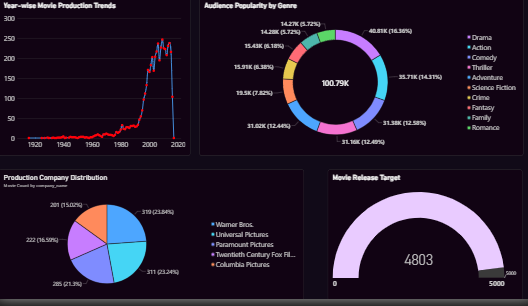

What the dashboard file says about the page in this screenshot:
{"tool":"powerbi","page":{"name":"Market & Audience Insights.","canvas":[1920,1080],"ordinal":2},"visuals":[{"type":"lineChart","title":"Year-wise Movie Production Trends","fields":{"Category":["public dim_date.release_year"],"Y":["public fact_movie_performance.Total Movies"]},"box":[9.9,0,682.4,565.8],"z":0},{"type":"donutChart","title":"Audience Popularity by Genre","fields":{"Category":["public dim_genre.genre_name"],"Y":["public bridge_movie_company_model.Genre Popularity"]},"box":[724,0,1154.9,566.4],"z":1},{"type":"pieChart","title":"Production Company Distribution","fields":{"Category":["public dim_production_company.company_name"],"Y":["public bridge_movie_company_model.Movie Count"]},"box":[9.3,614.1,1088,467],"z":2},{"type":"gauge","title":"Movie Release Target","fields":{"MaxValue":["public bridge_movie_company_model.Gauge Maximum"],"MinValue":["public bridge_movie_company_model.Gauge Minimum"],"TargetValue":["public bridge_movie_company_model.Movie Release Target"],"Y":["public fact_movie_performance.Total Movies"]},"box":[1186.1,614.1,693.4,467],"z":3}]}

Visuals, with their boxes in screenshot pixels (x1, y1, x2, y2), scaled from the page's 1920x1080 canvas onto the 528x306 screenshot:
"Year-wise Movie Production Trends" lineChart: 3,0,190,160
"Audience Popularity by Genre" donutChart: 199,0,517,160
"Production Company Distribution" pieChart: 3,174,302,305
"Movie Release Target" gauge: 326,174,517,305
